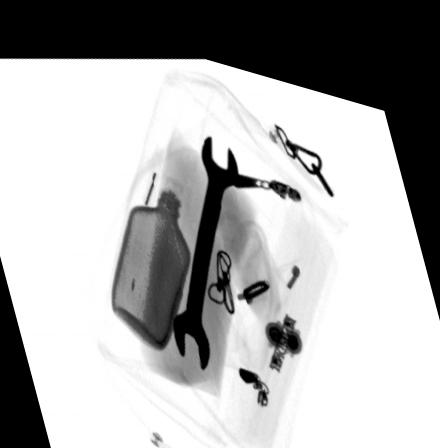Wrench: (170, 121, 240, 361)
